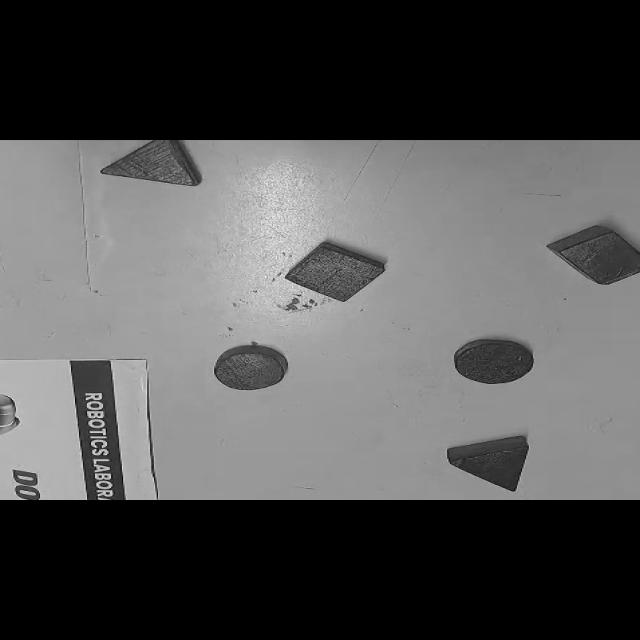bcircle: (452, 339, 535, 385)
bcube: (282, 241, 388, 304)
btriangle: (445, 436, 531, 492)
rcircle: (214, 344, 287, 390)
rcube: (547, 225, 640, 285)
rtriangle: (99, 140, 200, 187)
